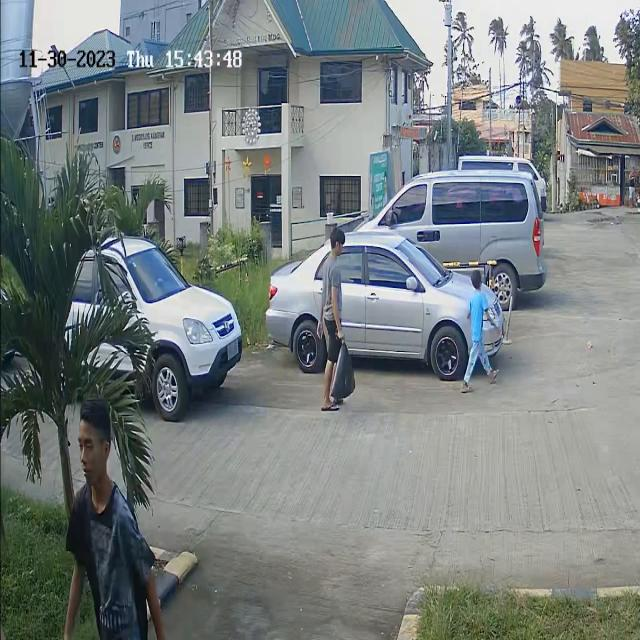garbage: (327, 335, 362, 402)
person: (62, 399, 128, 574), (318, 227, 352, 357)
